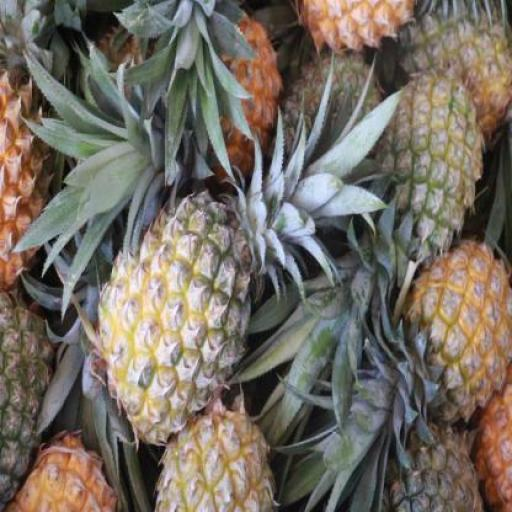------------------------------: (98, 188, 250, 436), (380, 68, 480, 262), (151, 406, 272, 508)
Pineapple - v8 v1: (407, 237, 512, 421), (0, 48, 49, 300)
